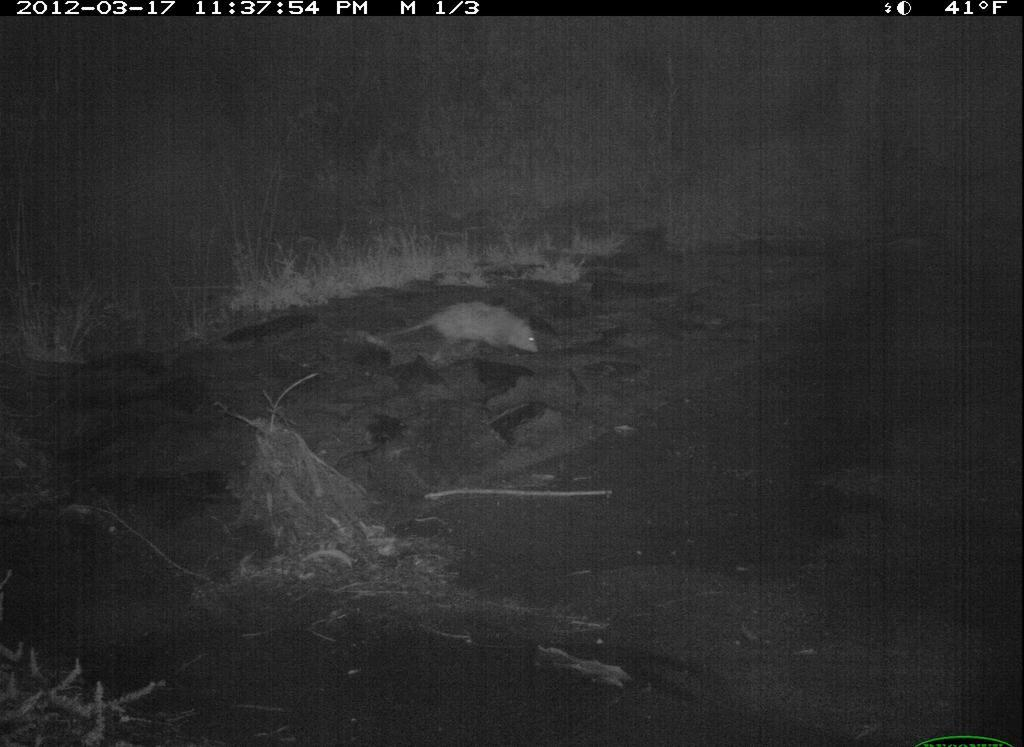opossum: (364, 294, 547, 369)
